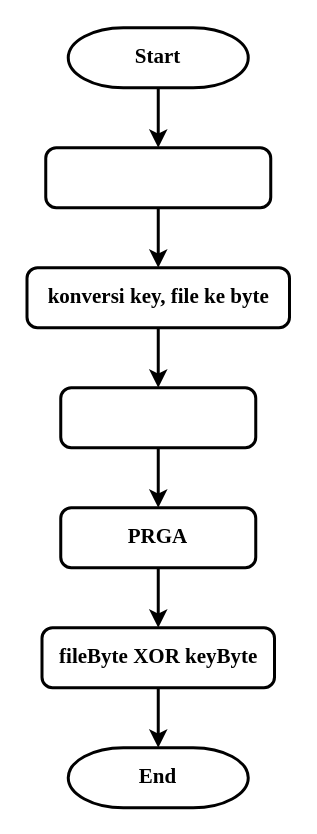
The diagram is 317 pixels wide and 834 high, and some of its shapes have lost their labels. The centre of each missing label's shape, as x and y in pixels:
"i nisialisasi key, file" belongs at (158,177).
"KSA" belongs at (157,417).
